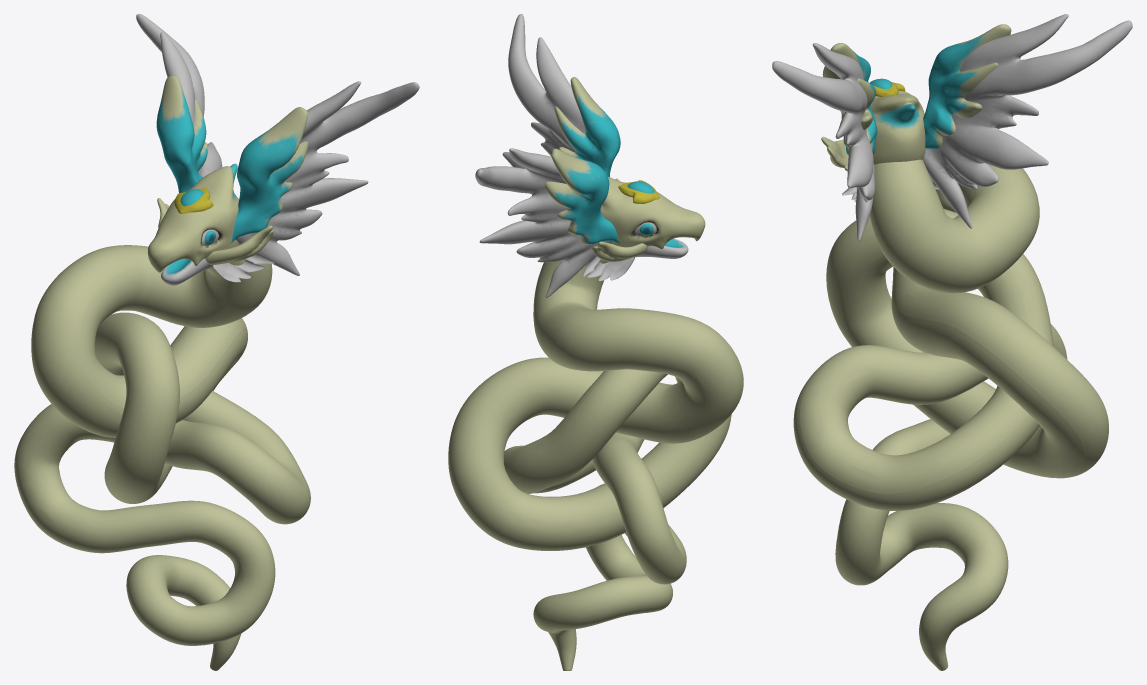
File: knot.glb
3 views of the same model, side by side, from view 1: azimuth 30°, elevation 25°; view 2: azimuth 150°, elevation 25°; view 3: azimuth 270°, elevation 25° (orthographic). The views are drawn at different scales.
Visible parts, largest first — view 1: Tube; view 2: Tube; view 3: Tube.
Boxes of the visible parts, x1,y1,x2,y2 form: Tube: (14, 14, 419, 670); Tube: (448, 14, 743, 670); Tube: (772, 14, 1132, 670).
Size of the model in its own units: 5.98 by 11.34 by 5.48.
